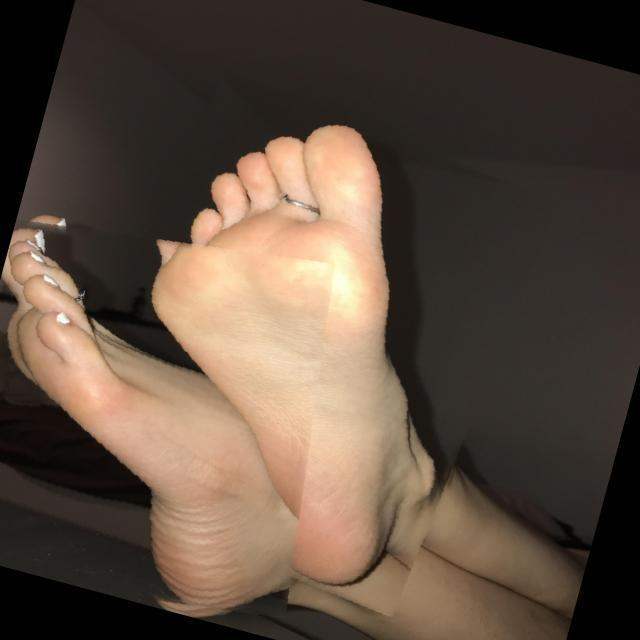No_Shoes: (188, 144, 500, 544), (9, 209, 287, 604)
